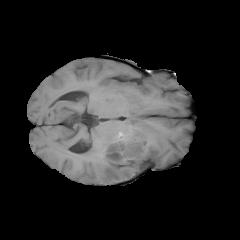glioma: (85, 111, 166, 183)
